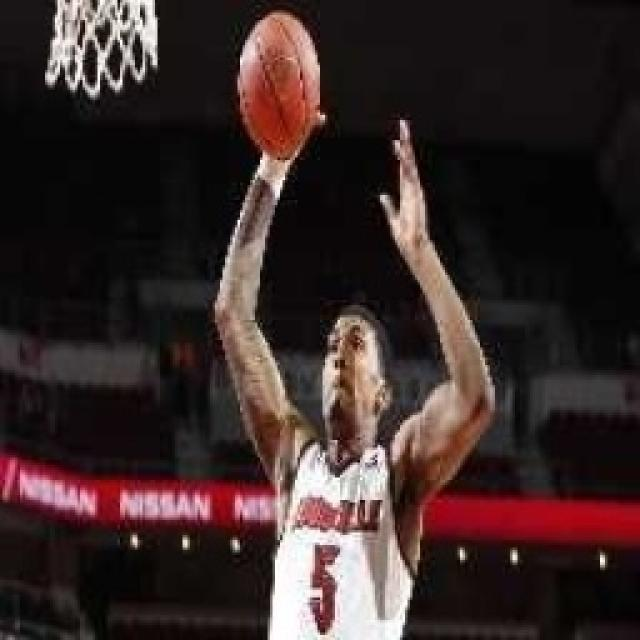rim: (234, 7, 324, 163)
